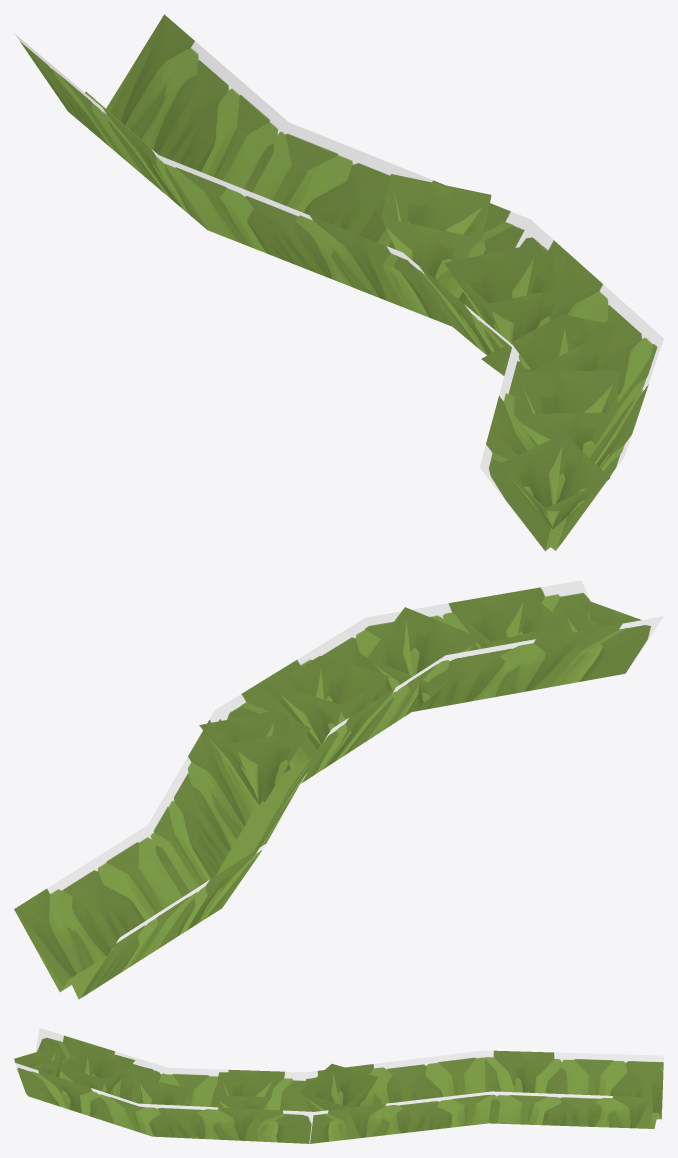
Rendered from SM_Env_Creeper_Vine_02.glb.
3 renders of one model, top to bottom at view 1: azimuth 30°, elevation 25°; view 2: azimuth 150°, elevation 25°; view 3: azimuth 270°, elevation 25°, orthographic. The views are drawn at different scales.
Parts seen in each view (by area): view 1: SM_Env_Creeper_Vine_02; view 2: SM_Env_Creeper_Vine_02; view 3: SM_Env_Creeper_Vine_02.
Part boxes in pixels (x1,y1,x2,y2): SM_Env_Creeper_Vine_02: (14,14,663,551); SM_Env_Creeper_Vine_02: (14,580,663,999); SM_Env_Creeper_Vine_02: (14,1028,663,1143).
Bounding box in the file's own units: 0.471 × 0.1755 × 1.6.
1 material, 1 textured.
